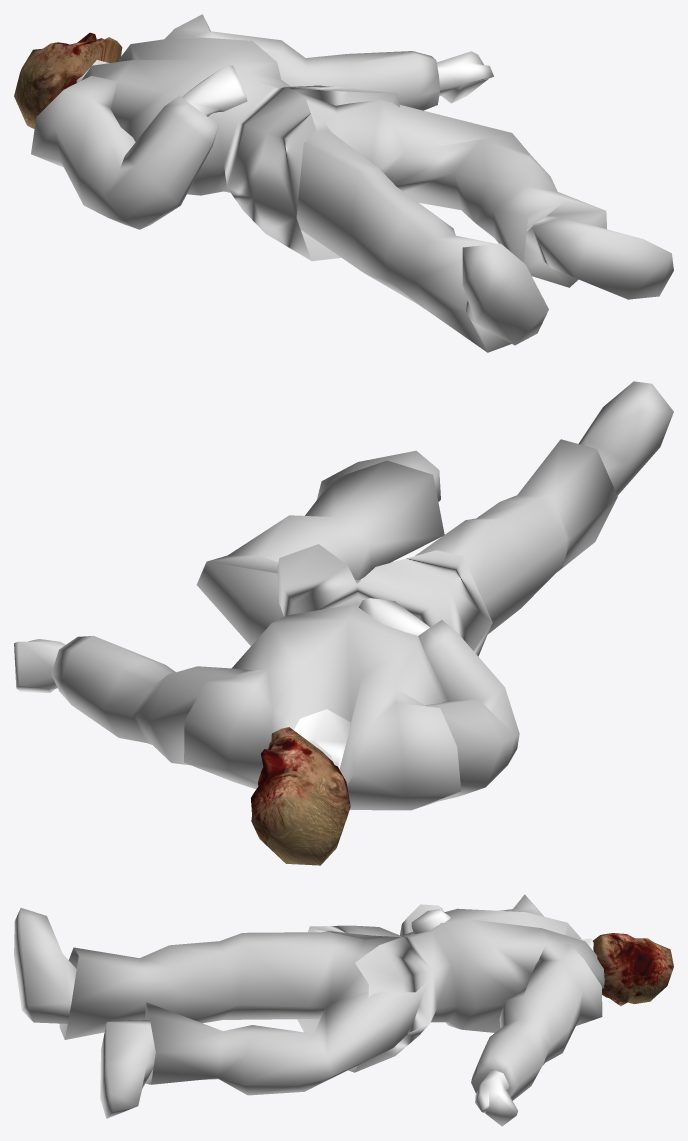
File: KM_CITYONFIRE_CORPSE_CITIZEN_05.glb
The picture shows the model from 3 angles, top to bottom: view 1: azimuth 30°, elevation 25°; view 2: azimuth 150°, elevation 25°; view 3: azimuth 270°, elevation 25°; orthographic projection. The views are drawn at different scales.
Visible parts, largest first — view 1: Mesh; view 2: Mesh; view 3: Mesh.
Part boxes in pixels (box(x1,y1,x2,y2)): Mesh: box(14, 14, 673, 352); Mesh: box(14, 381, 673, 865); Mesh: box(14, 894, 673, 1126).
Bounding box in the file's own units: 1.18 × 0.3944 × 1.9.
3 materials, 1 textured.
